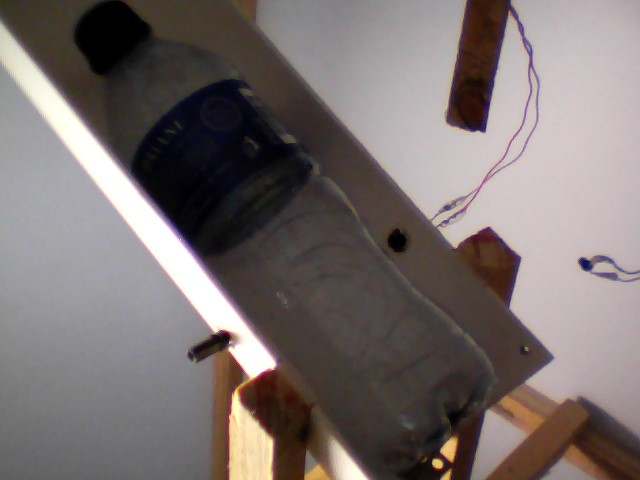plastico: (71, 1, 500, 472)
